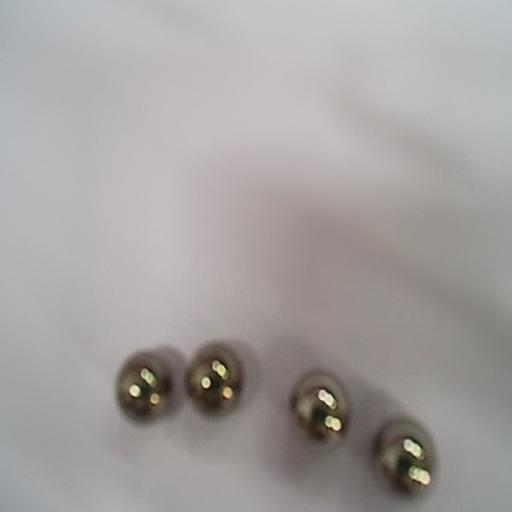steel-ball: (95, 336, 175, 429), (290, 366, 347, 447), (188, 330, 240, 416), (382, 418, 436, 493)
